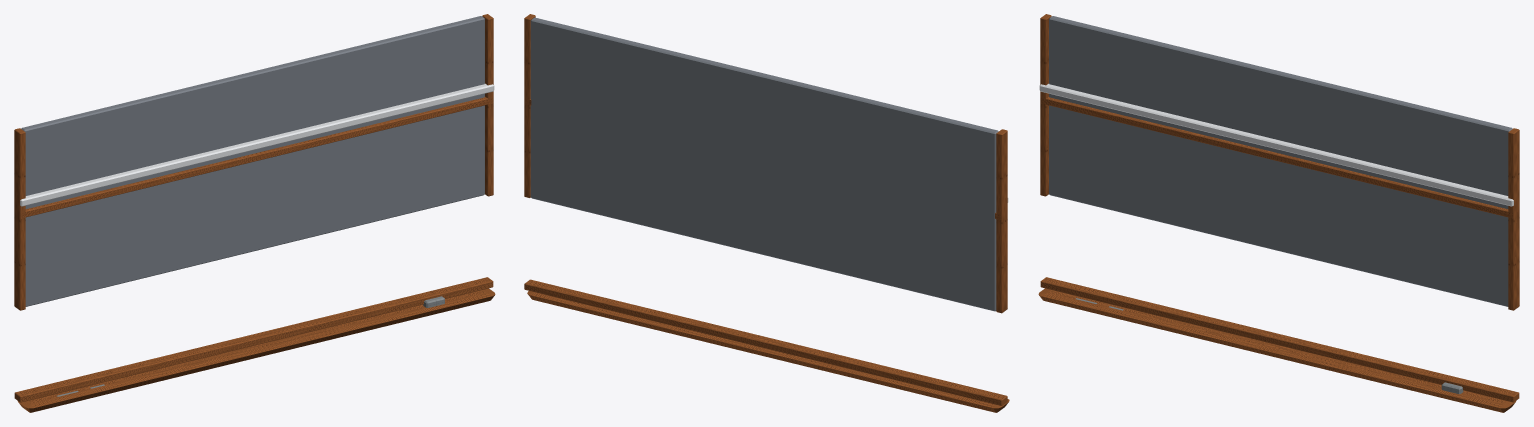
The model's file is japanese-school-and-city-street-blackboard-with-chalk--fc405c1d__30086.glb.
3 views of the same model, side by side, from view 1: azimuth 30°, elevation 25°; view 2: azimuth 150°, elevation 25°; view 3: azimuth 330°, elevation 25° (orthographic).
Visible parts, largest first — view 1: blackboard-with-chalk-tray; view 2: blackboard-with-chalk-tray; view 3: blackboard-with-chalk-tray.
Part boxes in pixels (<box>): blackboard-with-chalk-tray: <box>14,14,495,412</box>; blackboard-with-chalk-tray: <box>524,14,1009,412</box>; blackboard-with-chalk-tray: <box>1038,14,1519,412</box>.
Size of the model in its own units: 3.49 by 1.97 by 0.1701.
4 materials, 2 textured.
